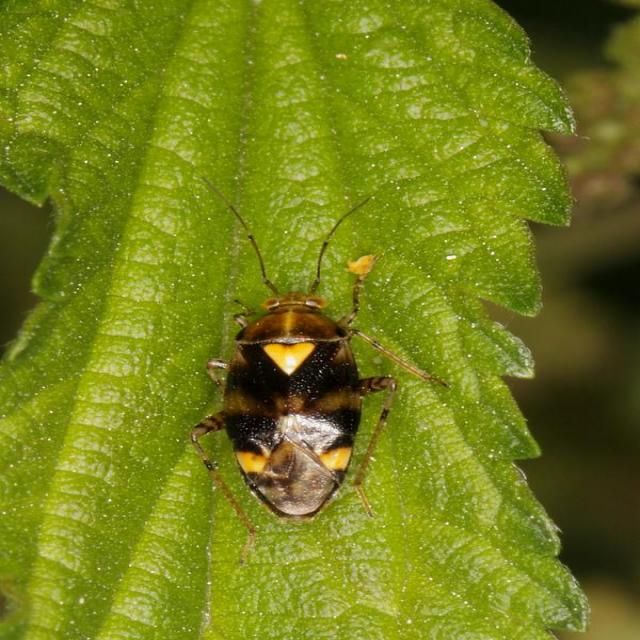Miridae-Adult-: (186, 171, 435, 540)
